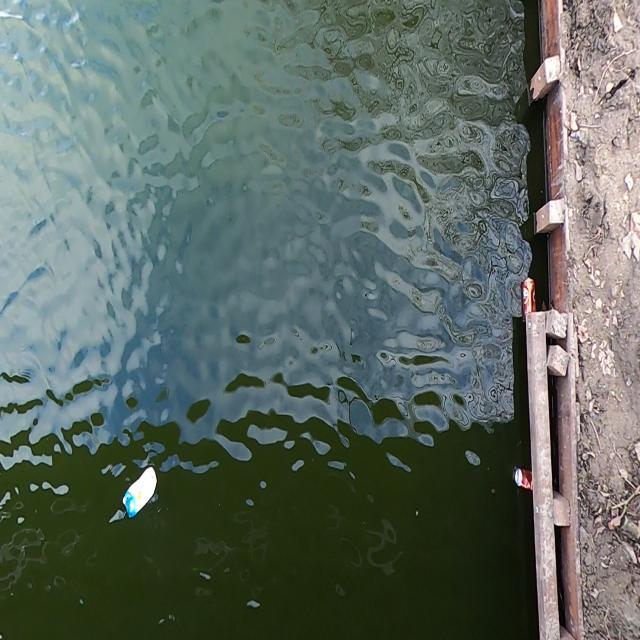Non plastique: (514, 463, 533, 496), (522, 276, 537, 316)
